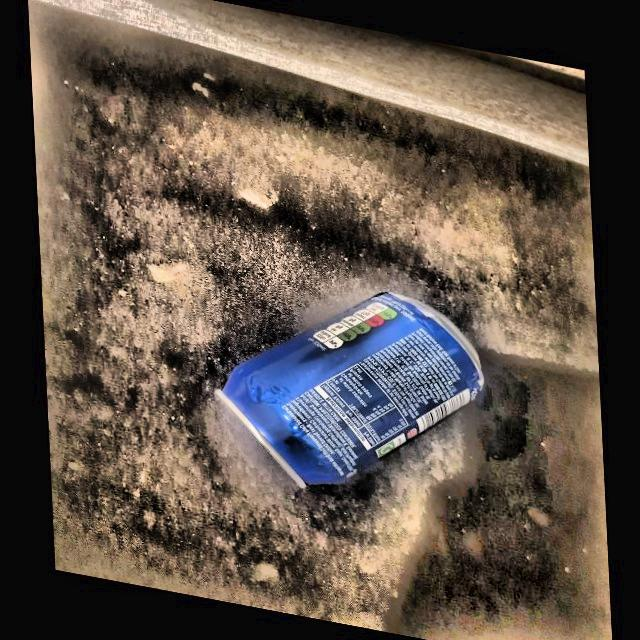pepsi-can: (219, 290, 481, 488)
